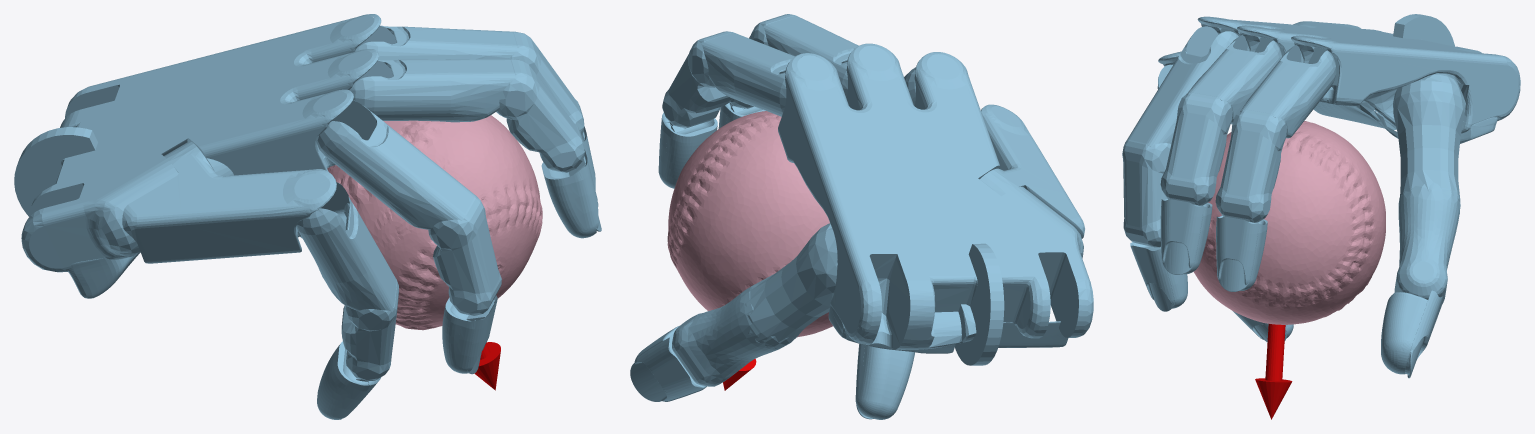
The picture shows the model from 3 angles, left to right: view 1: azimuth 30°, elevation 25°; view 2: azimuth 150°, elevation 25°; view 3: azimuth 270°, elevation 25°; orthographic projection. The views are drawn at different scales.
Parts seen in each view (by area): view 1: world, baseball.stl; view 2: world, baseball.stl; view 3: world, baseball.stl.
Part boxes in pixels (x1,y1,x2,y2): world: [14, 14, 601, 419]; baseball.stl: [327, 115, 542, 330]; world: [630, 14, 1093, 419]; baseball.stl: [667, 111, 832, 337]; world: [1122, 14, 1520, 419]; baseball.stl: [1193, 121, 1385, 324].
Bounding box in the file's own units: 0.1819 × 0.1313 × 0.14.
